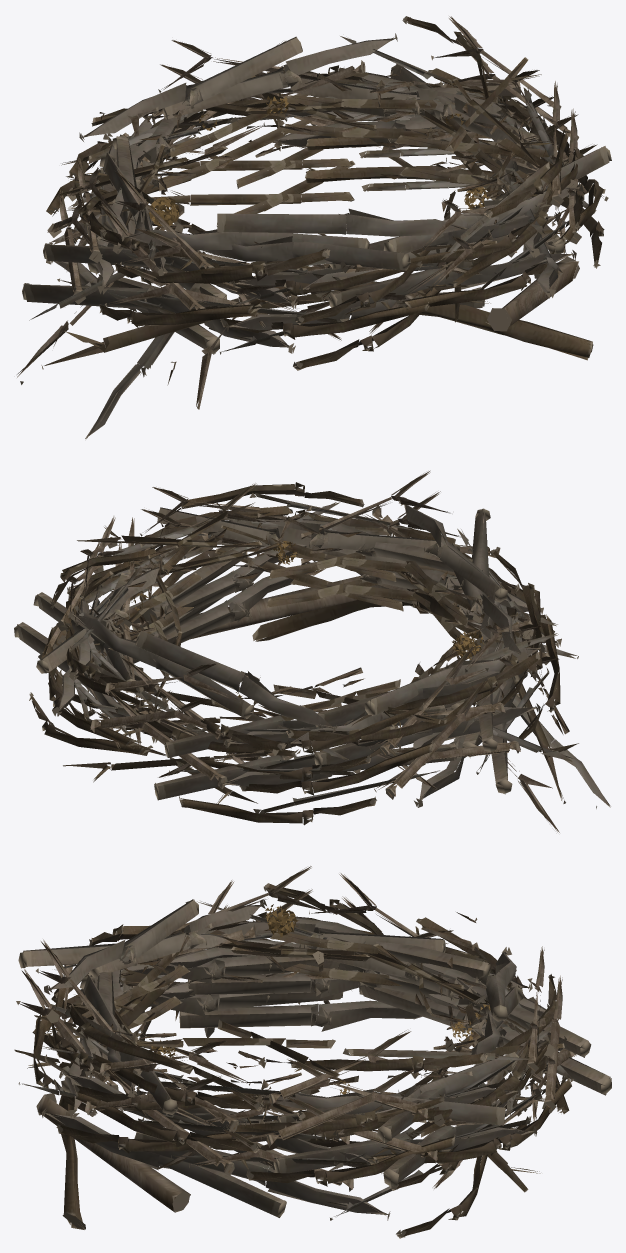
Rendered from nest.glb.
3 renders of one model, top to bottom at view 1: azimuth 30°, elevation 25°; view 2: azimuth 150°, elevation 25°; view 3: azimuth 270°, elevation 25°, orthographic. The views are drawn at different scales.
Visible parts, largest first — view 1: pCylinder50_Stick_1_Material_0; view 2: pCylinder50_Stick_1_Material_0; view 3: pCylinder50_Stick_1_Material_0.
Part boxes in pixels (x1=…): pCylinder50_Stick_1_Material_0: x1=17, y1=16, x2=611, y2=438; pCylinder50_Stick_1_Material_0: x1=14, y1=470, x2=610, y2=832; pCylinder50_Stick_1_Material_0: x1=14, y1=866, x2=611, y2=1238.
Bounding box in the file's own units: 1 × 0.3992 × 0.9052.
4 materials, 4 textured.
